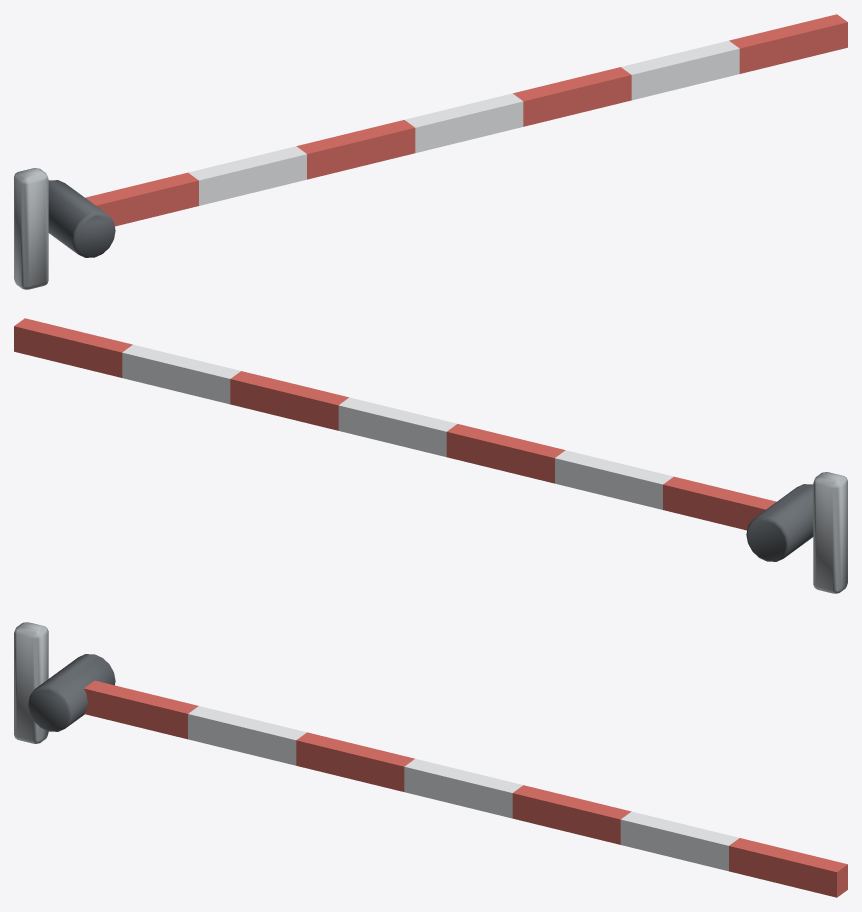
File: barrier_arm.glb
3 views of the same model, one above another, from view 1: azimuth 30°, elevation 25°; view 2: azimuth 150°, elevation 25°; view 3: azimuth 330°, elevation 25° (orthographic).
Visible parts, largest first — view 1: Body; view 2: Body; view 3: Body.
Part boxes in pixels (box(x1,y1,x2,y2)): Body: box(14, 14, 847, 289); Body: box(14, 318, 847, 593); Body: box(14, 622, 847, 897).
Size of the model in its own units: 3.05 by 0.4 by 0.3.
